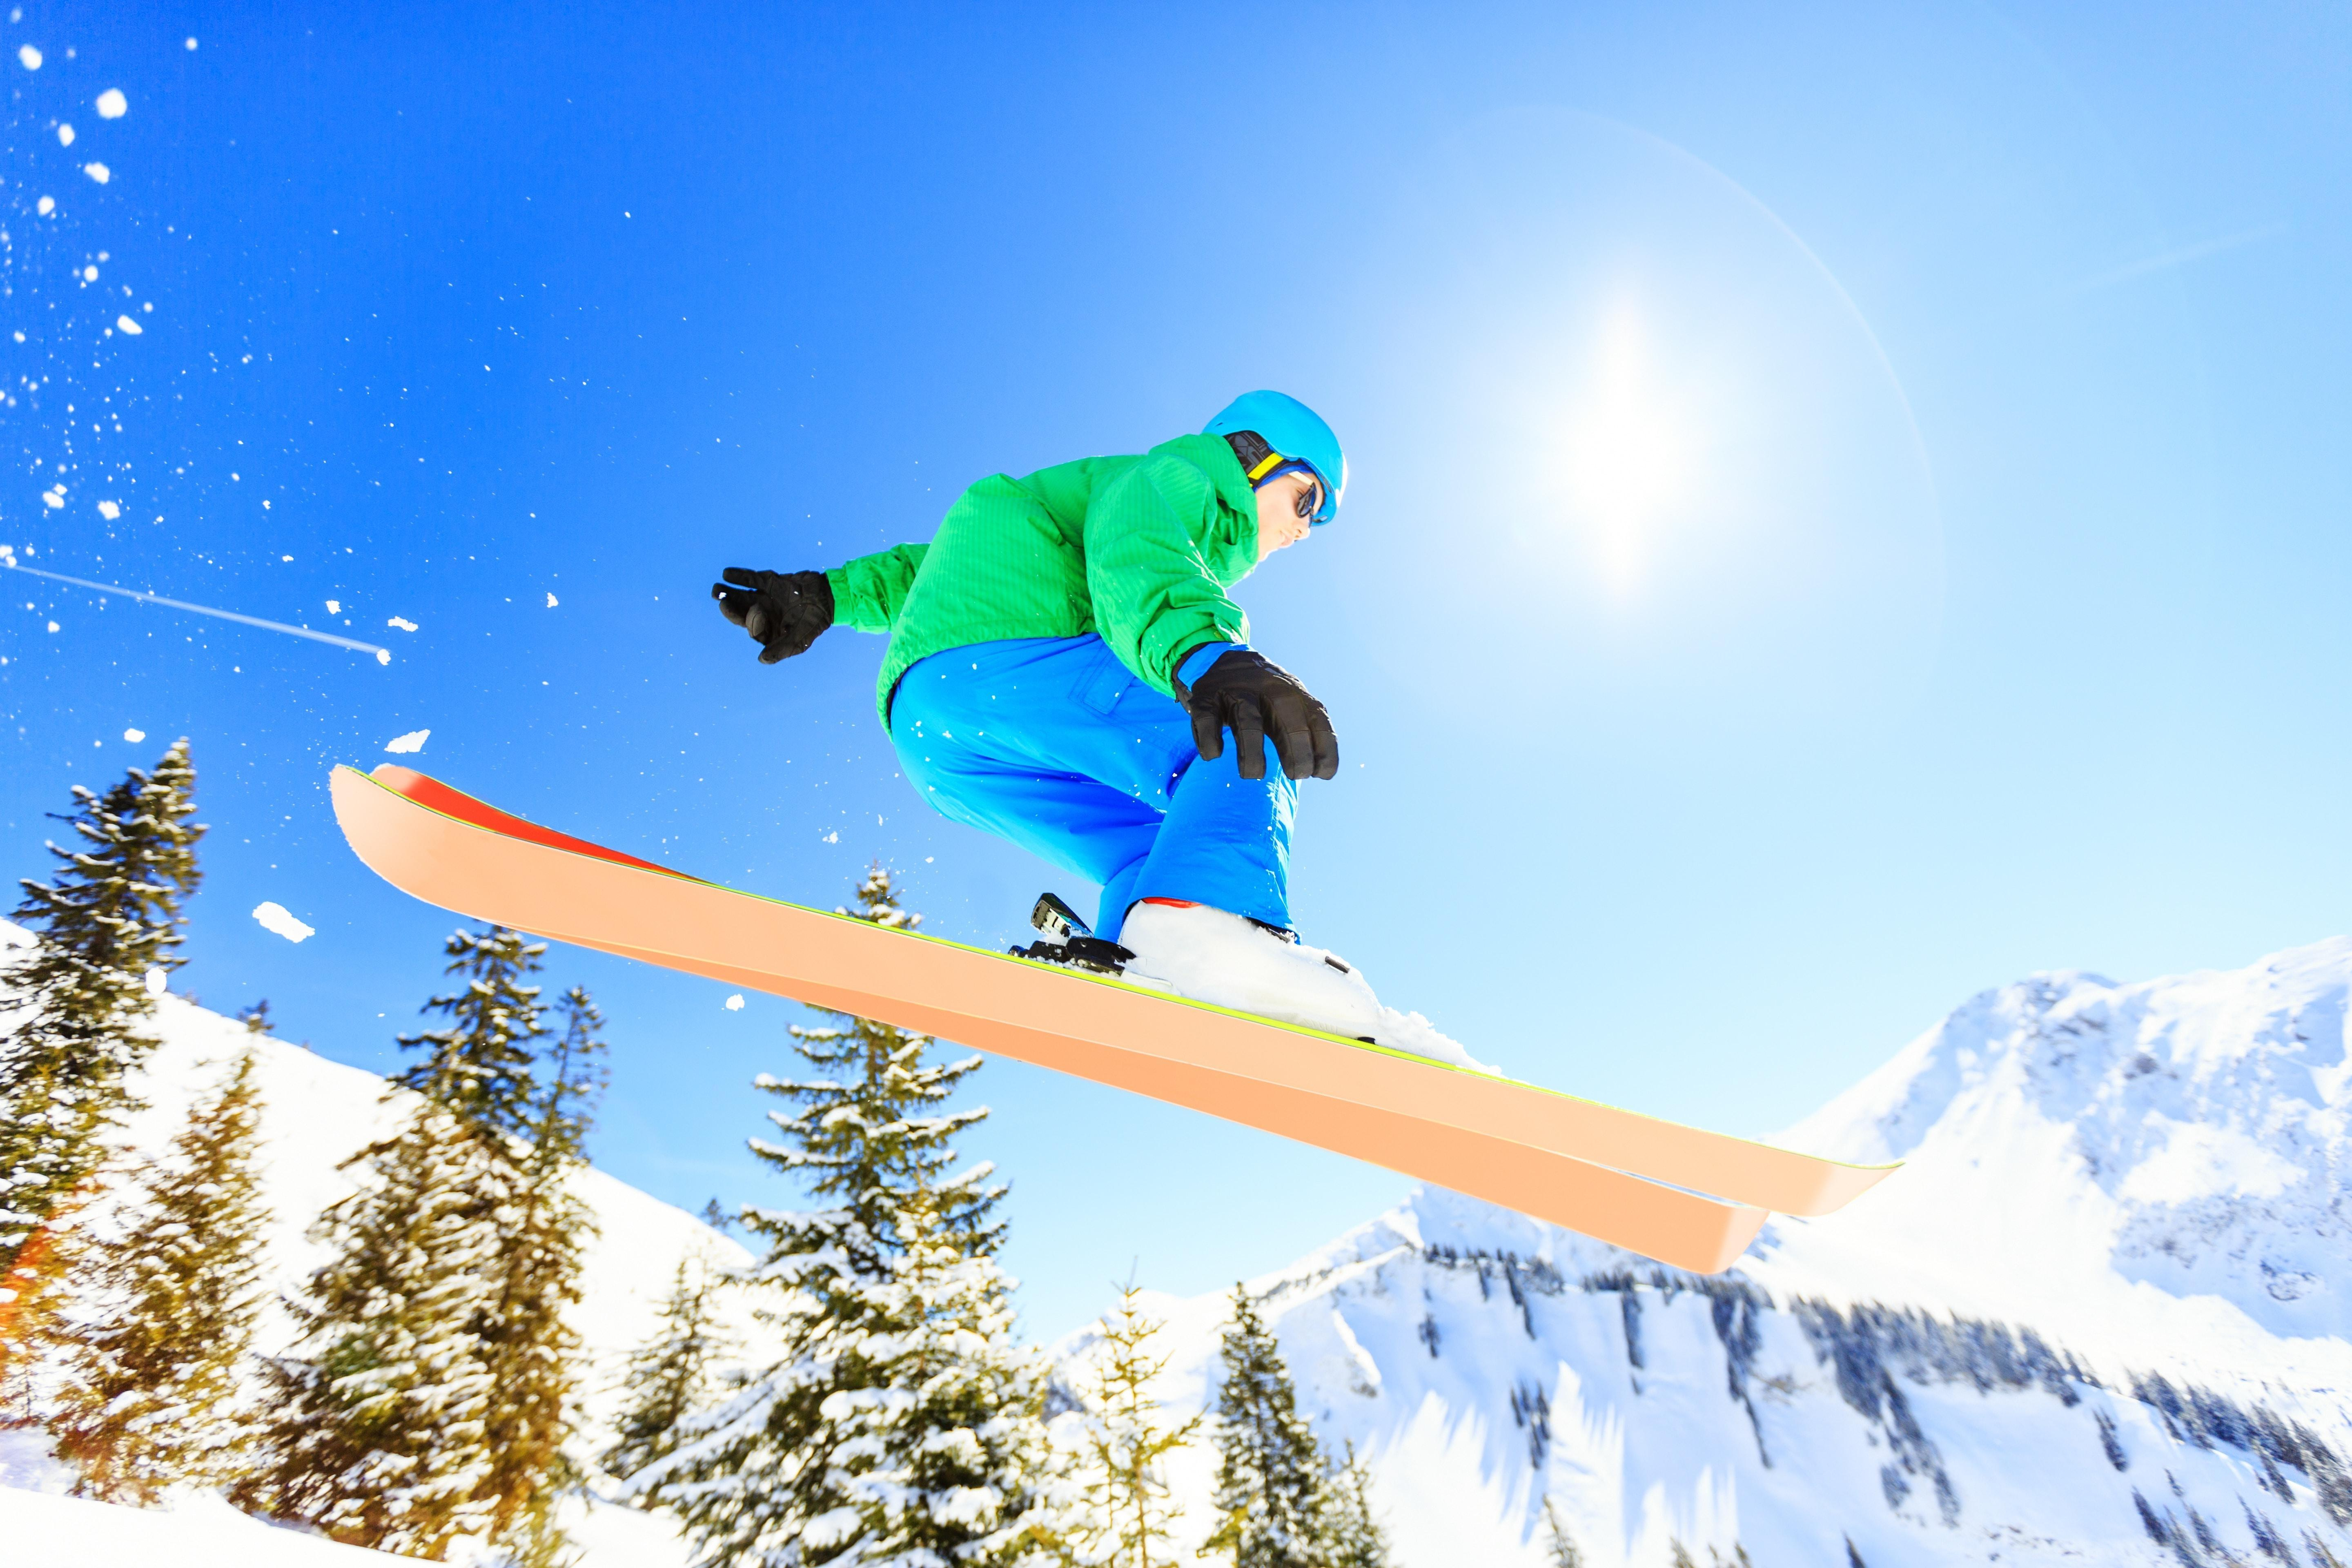Skis: (283, 710, 1932, 1312)
